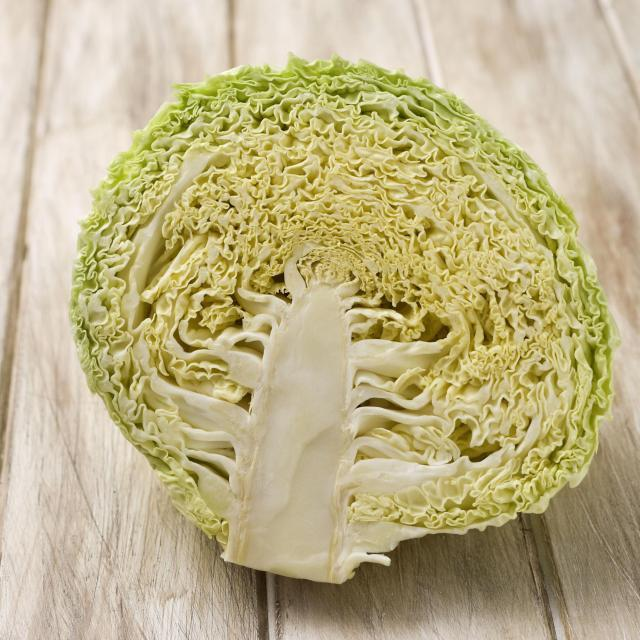cabbage: (55, 50, 622, 589)
